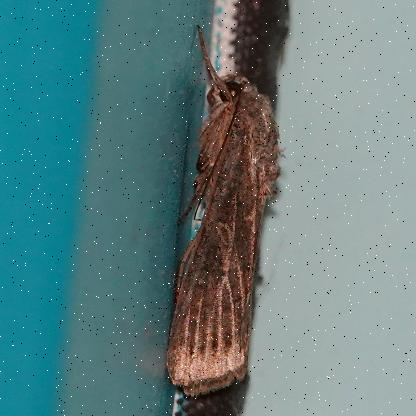Fall Armyworm Moth: (162, 22, 290, 402)
